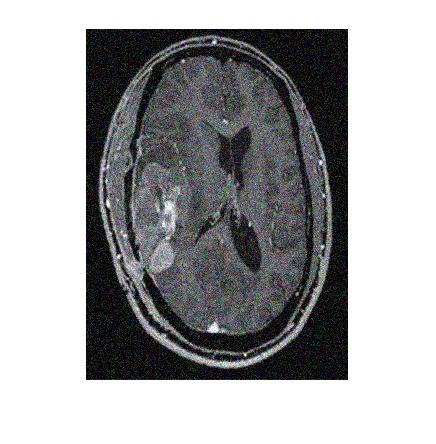Brain_Cancer: (136, 161, 182, 280)
